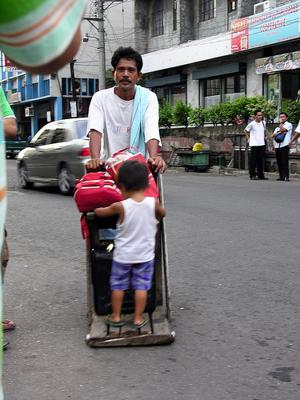person: (87, 46, 167, 174)
